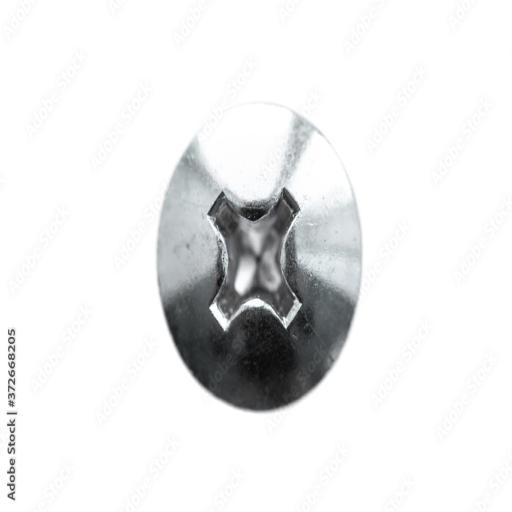Phillips: (155, 106, 364, 414)
